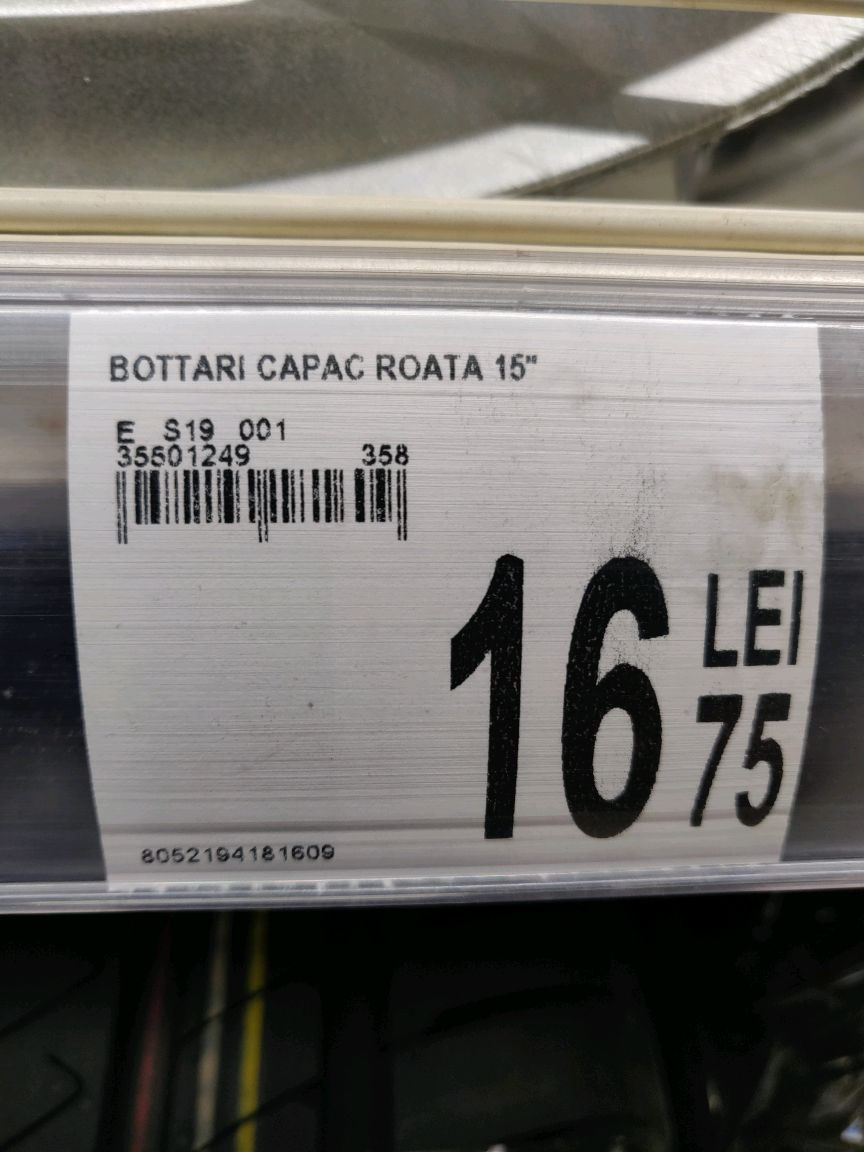price_bani: (678, 688, 805, 835)
price_lei: (426, 534, 688, 860)
price_tag: (55, 293, 838, 921)
product_id: (119, 828, 362, 878)
product_name: (99, 340, 556, 391)
